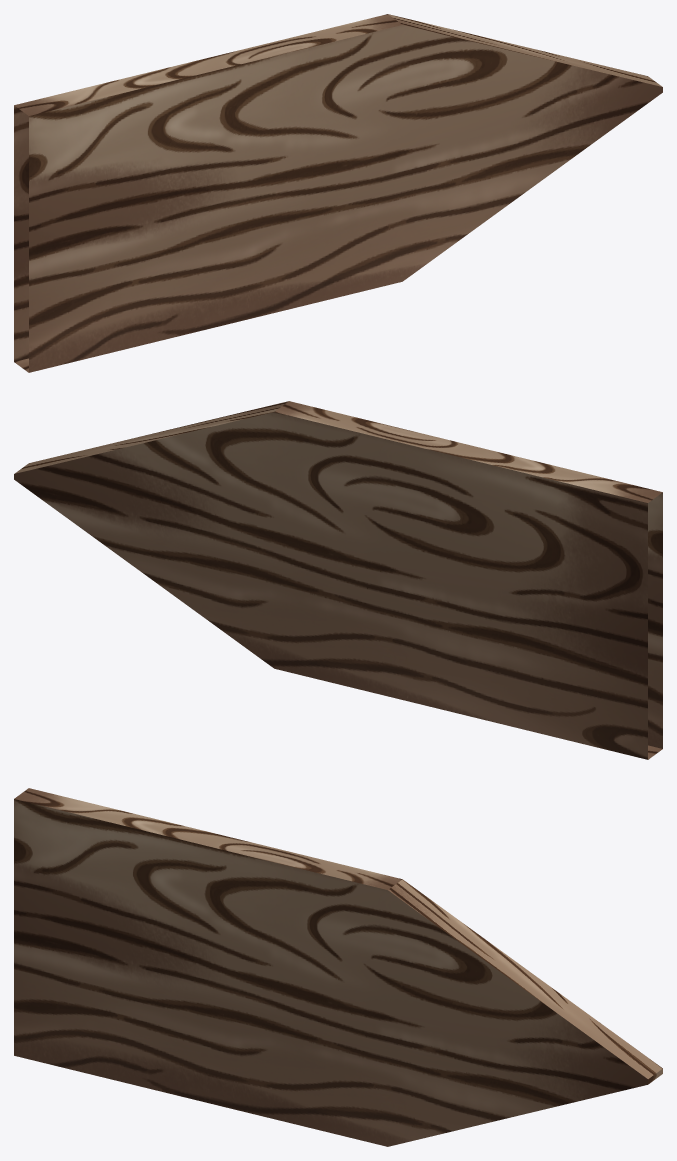
Rendered from FLECHA.fbx.
3 views of the same model, one above another, from view 1: azimuth 30°, elevation 25°; view 2: azimuth 150°, elevation 25°; view 3: azimuth 330°, elevation 25° (orthographic).
Parts seen in each view (by area): view 1: Cube; view 2: Cube; view 3: Cube.
Part boxes in pixels (x1,y1,x2,y2): Cube: [14, 14, 662, 372]; Cube: [14, 401, 662, 759]; Cube: [14, 788, 662, 1146].
Size of the model in its own units: 332 by 128 by 13.48.
